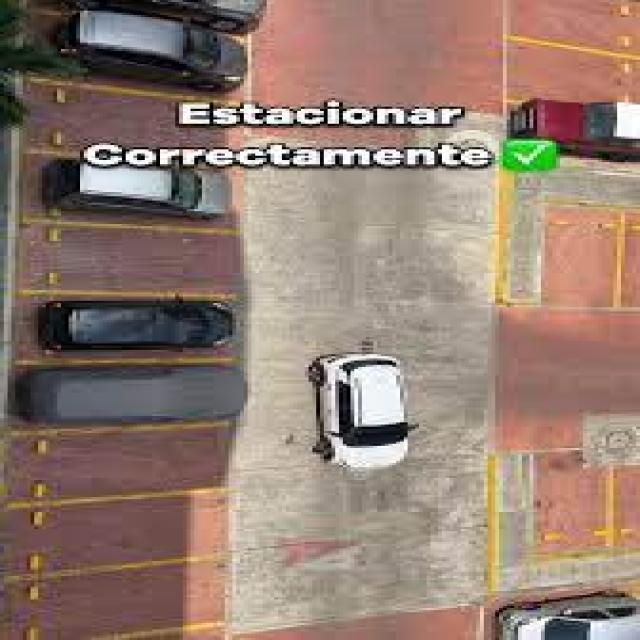libre: (0, 408, 272, 519), (0, 475, 253, 587), (0, 68, 262, 167), (3, 548, 277, 638), (3, 213, 267, 303)
ocupado: (0, 0, 269, 113), (0, 354, 267, 448), (0, 145, 260, 236), (3, 282, 260, 365)
